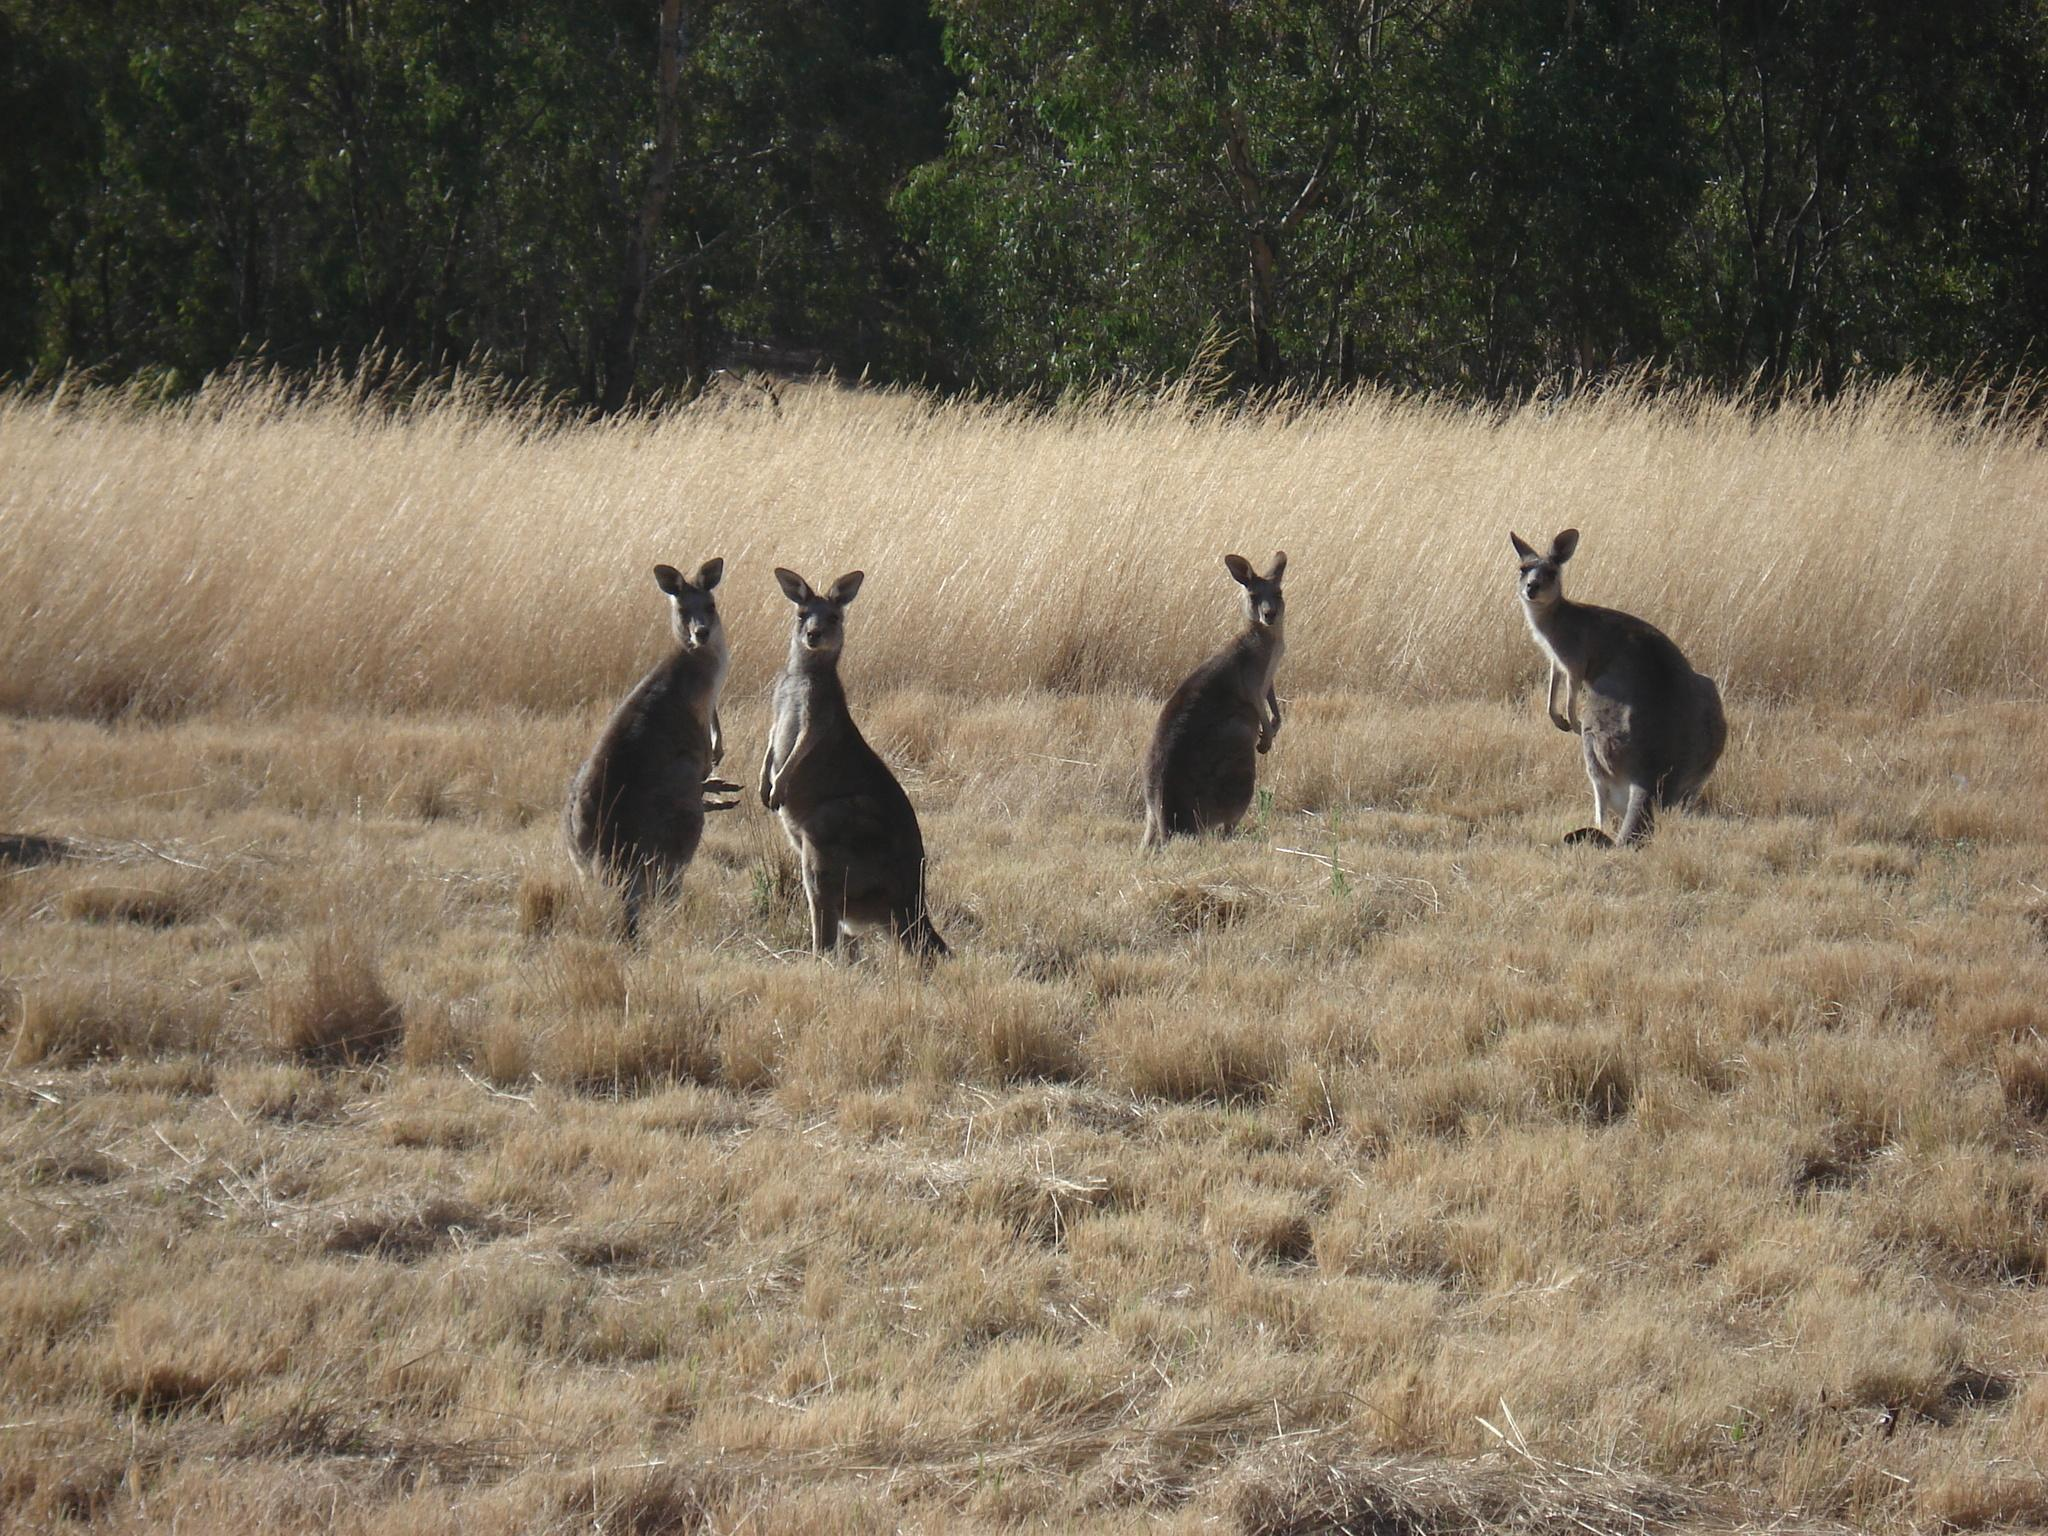Eastern grey kangaroo: (760, 563, 979, 970), (561, 555, 747, 963), (1508, 529, 1732, 857), (1085, 549, 1290, 873)
